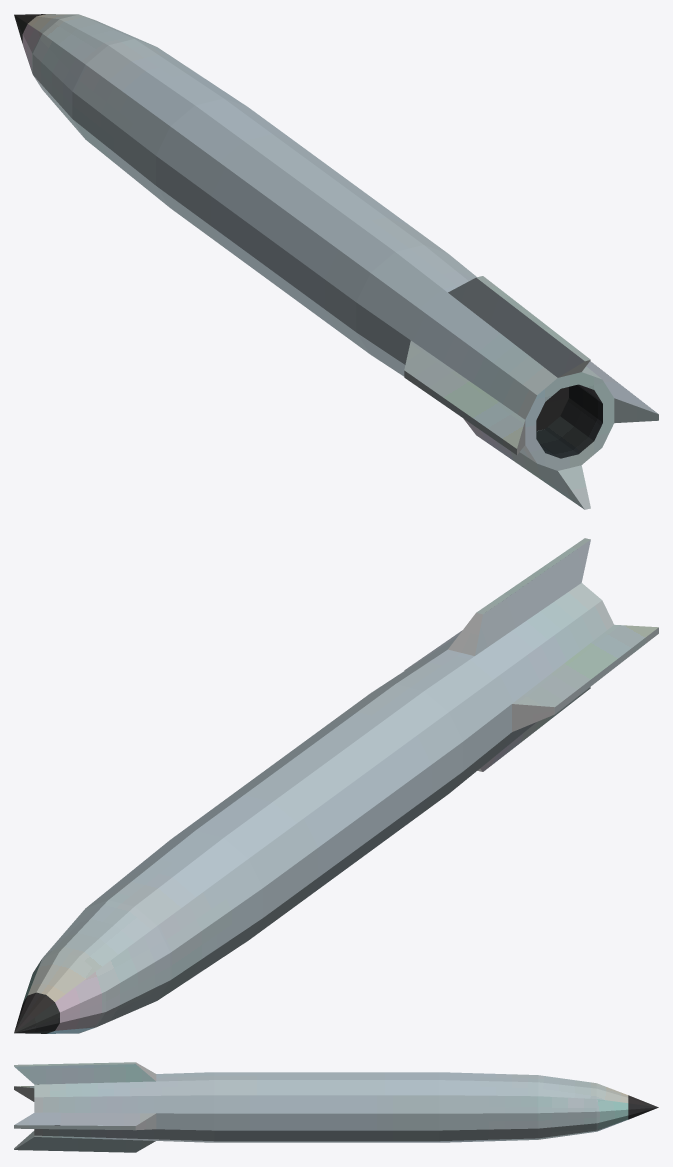
File: b2bomb.glb
3 views of the same model, one above another, from view 1: azimuth 30°, elevation 25°; view 2: azimuth 150°, elevation 25°; view 3: azimuth 270°, elevation 25° (orthographic). The views are drawn at different scales.
Bounding box in the file's own units: 0.0959 × 0.0959 × 0.6326.
Materials: 1 (1 with a texture image).
